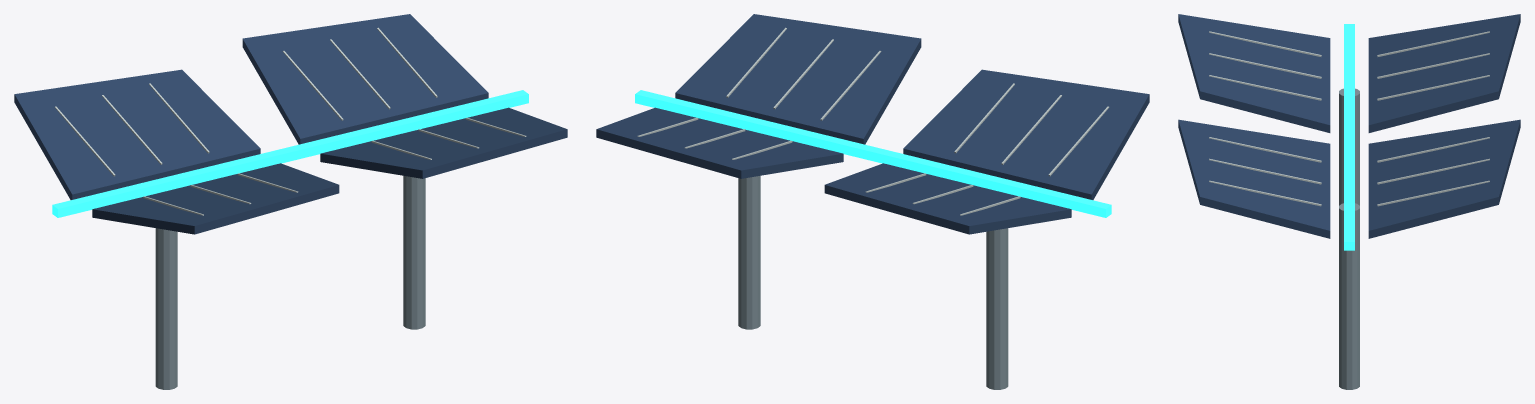
Rendered from Utility_SolarArray.glb.
3 renders of one model, left to right at view 1: azimuth 30°, elevation 25°; view 2: azimuth 150°, elevation 25°; view 3: azimuth 270°, elevation 25°, orthographic. The views are drawn at different scales.
Visible parts, largest first — view 1: Utility_SolarArray_Panel, Utility_SolarArray_Stand, Utility_SolarArray_Rails; view 2: Utility_SolarArray_Panel, Utility_SolarArray_Stand, Utility_SolarArray_Rails; view 3: Utility_SolarArray_Panel, Utility_SolarArray_Stand, Utility_SolarArray_Rails.
Part boxes in pixels (box(x1,y1,x2,y2)): Utility_SolarArray_Panel: box(14, 14, 567, 234); Utility_SolarArray_Stand: box(155, 175, 425, 389); Utility_SolarArray_Rails: box(52, 90, 528, 217); Utility_SolarArray_Panel: box(596, 14, 1149, 234); Utility_SolarArray_Stand: box(738, 175, 1008, 389); Utility_SolarArray_Rails: box(635, 90, 1111, 217); Utility_SolarArray_Panel: box(1178, 14, 1520, 238); Utility_SolarArray_Stand: box(1339, 88, 1359, 389); Utility_SolarArray_Rails: box(1344, 24, 1354, 250).
Size of the model in its own units: 3.8 by 1.85 by 2.52.
